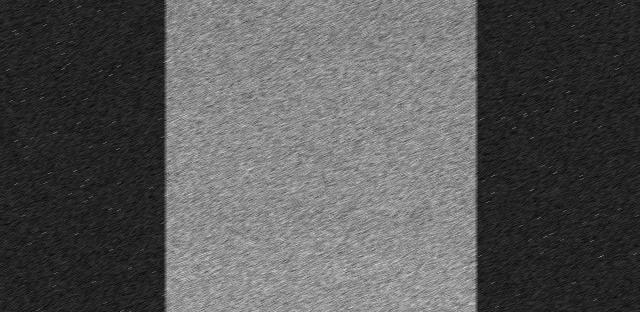silk_spot: (210, 0, 477, 280)
